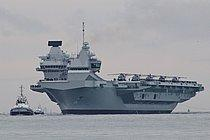MIL_Ship: (29, 35, 206, 115)
